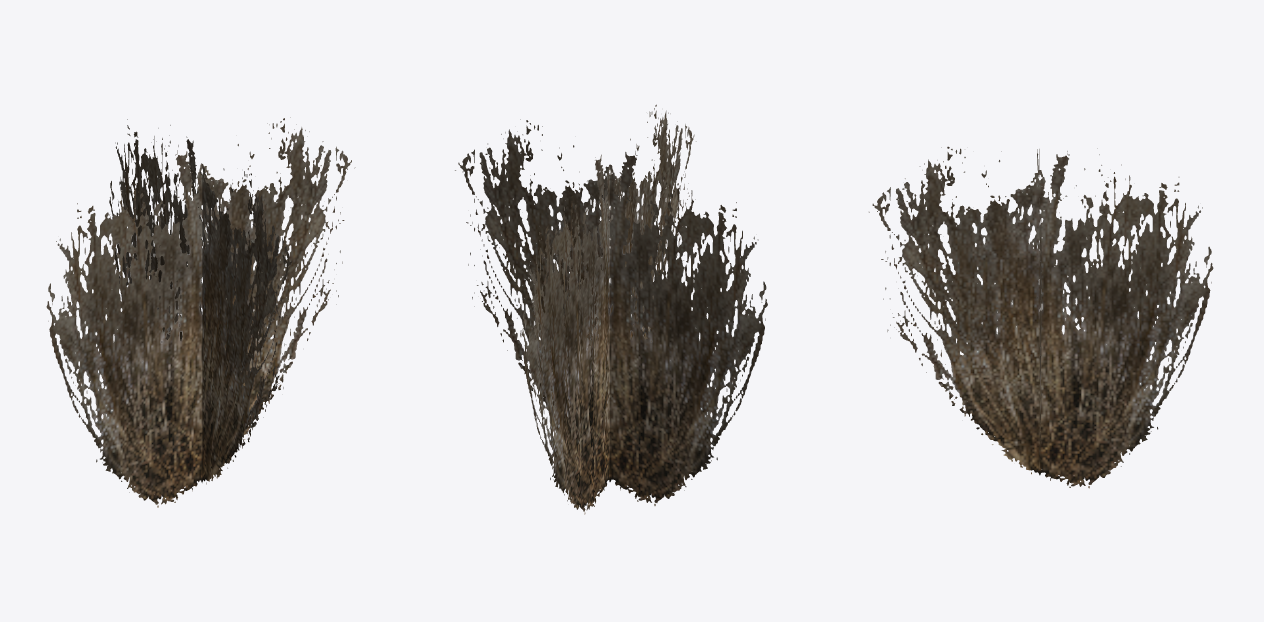
File: Dry grass.fbx
3 renders of one model, left to right at view 1: azimuth 30°, elevation 25°; view 2: azimuth 150°, elevation 25°; view 3: azimuth 270°, elevation 25°, orthographic. The views are drawn at different scales.
Visible parts, largest first — view 1: Plane.015, Plane.016; view 2: Plane.015, Plane.016; view 3: Plane.016, Plane.015.
Boxes of the visible parts, box(x1,y1,x2,y2) form: Plane.015: box(46, 117, 355, 507); Plane.016: box(109, 119, 293, 484); Plane.015: box(455, 119, 767, 505); Plane.016: box(522, 104, 696, 514); Plane.016: box(869, 146, 1213, 488); Plane.015: box(1037, 149, 1041, 468).
Bounding box in the file's own units: 41.17 × 44.96 × 41.17.
Materials: 2 (2 with a texture image).
